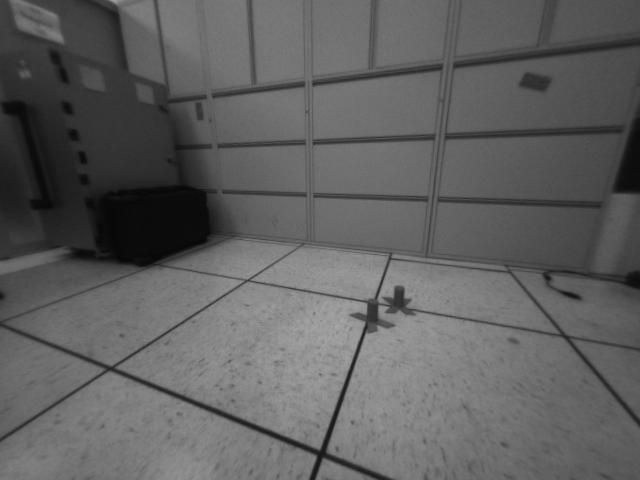X: (349, 297, 396, 334), (381, 284, 415, 317)
